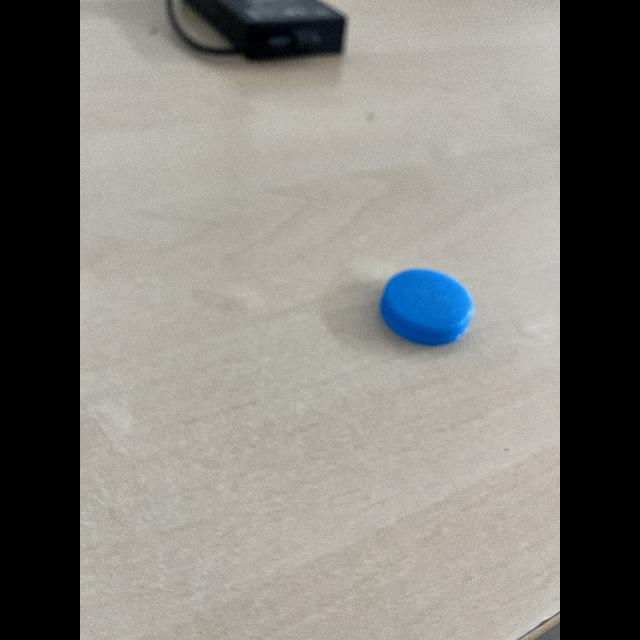plastic_bottle_cap: (369, 253, 483, 349)
